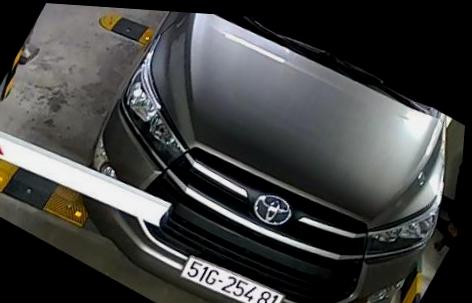License_Plate: (167, 237, 301, 303)
